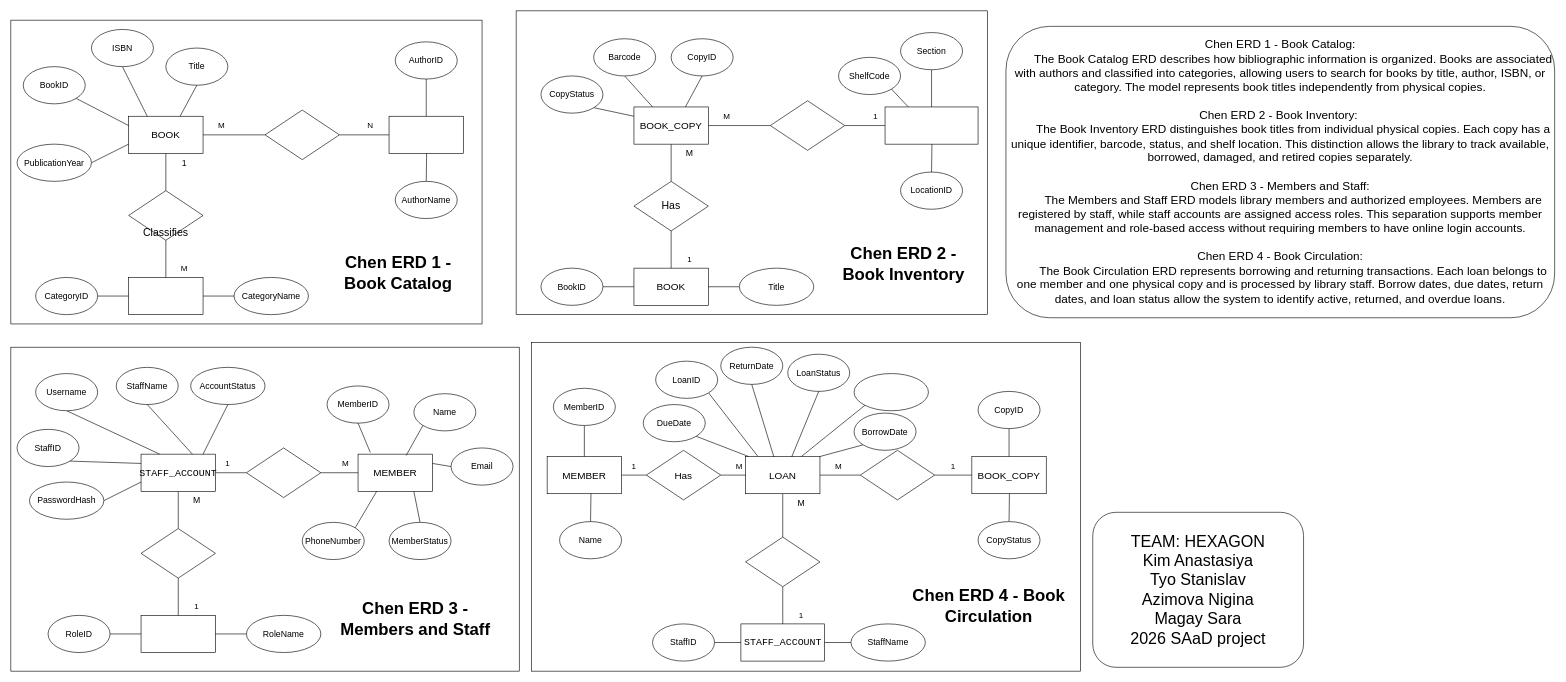
This 1566x682 diagram has some shape labels left out. Here are the shapes that lost their labels. From the top down, the centre of each, then its label:
pixel 301 134: Written By
pixel 425 134: AUTHOR
pixel 807 125: Stores
pixel 931 125: SHELF_LOCATION
pixel 165 296: CATEGORY
pixel 890 392: DaysOverdue
pixel 283 472: Registers
pixel 897 475: Appears In
pixel 177 553: Assigned To
pixel 782 561: Processes
pixel 177 634: ROLE
